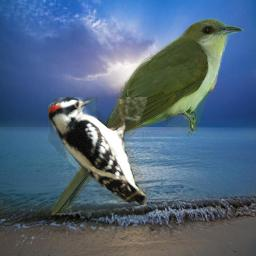Cuckoo: (51, 18, 244, 219)
Woodpecker: (48, 97, 147, 205)
